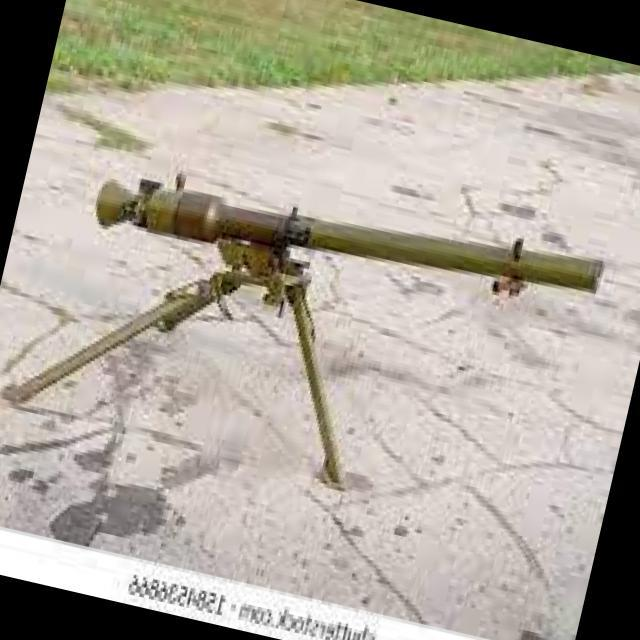rocket: (88, 142, 605, 344)
